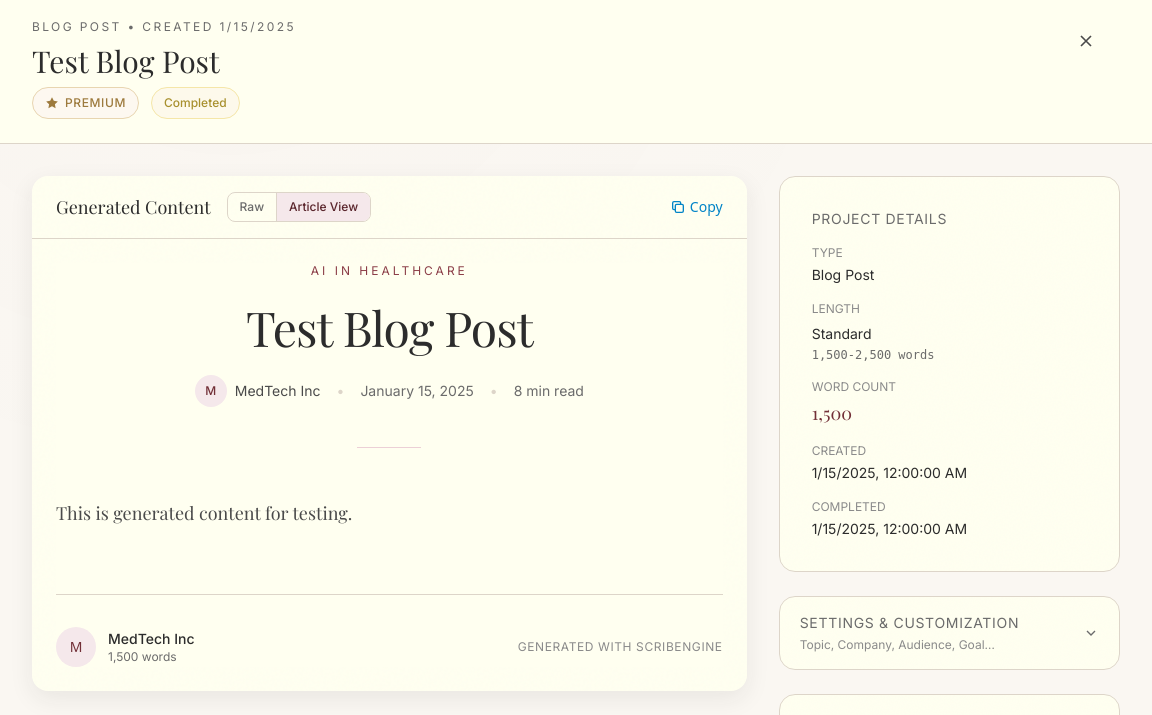
it: Project Settings Panel › Style Categories › shows all 18 style categories
Click the heading "Settings & Customization": click(909, 623) [800,613,1019,633]
(page scrolled)
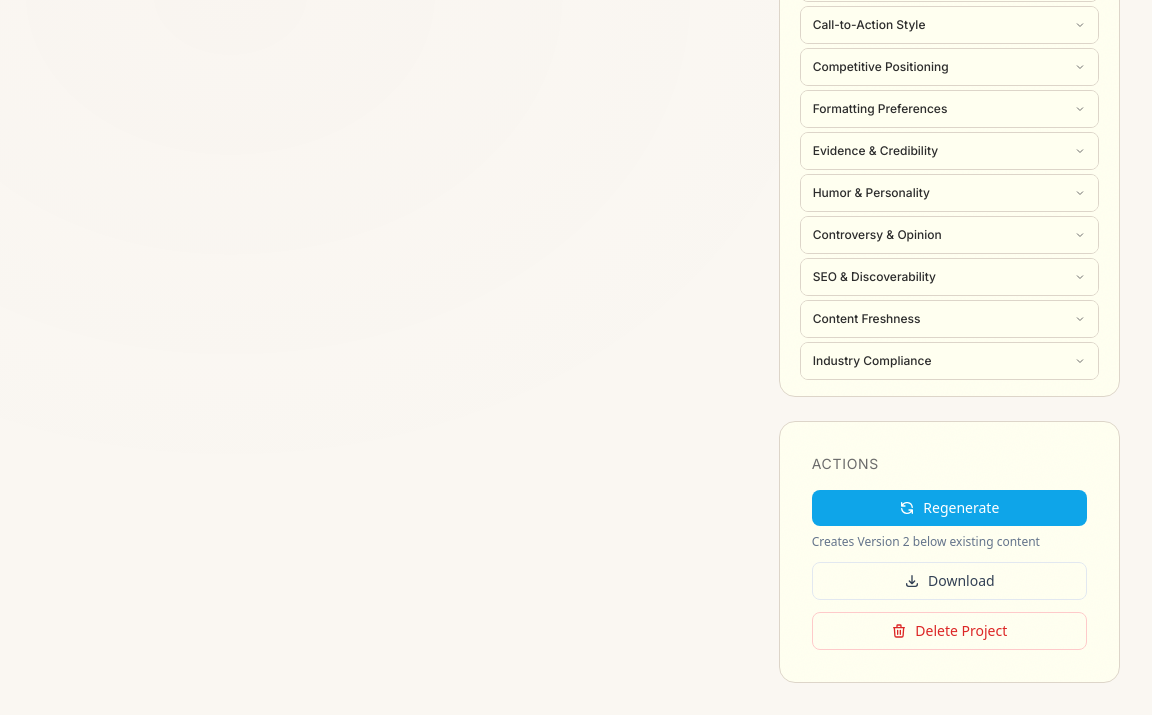
Check: the text "Call-to-Action Style" is shown, box [813,17,926,33]
Check: the text "Competitive Positioning" is shown, box [813,59,949,75]
Check: the text "Formatting Preferences" is shown, box [813,101,947,117]
